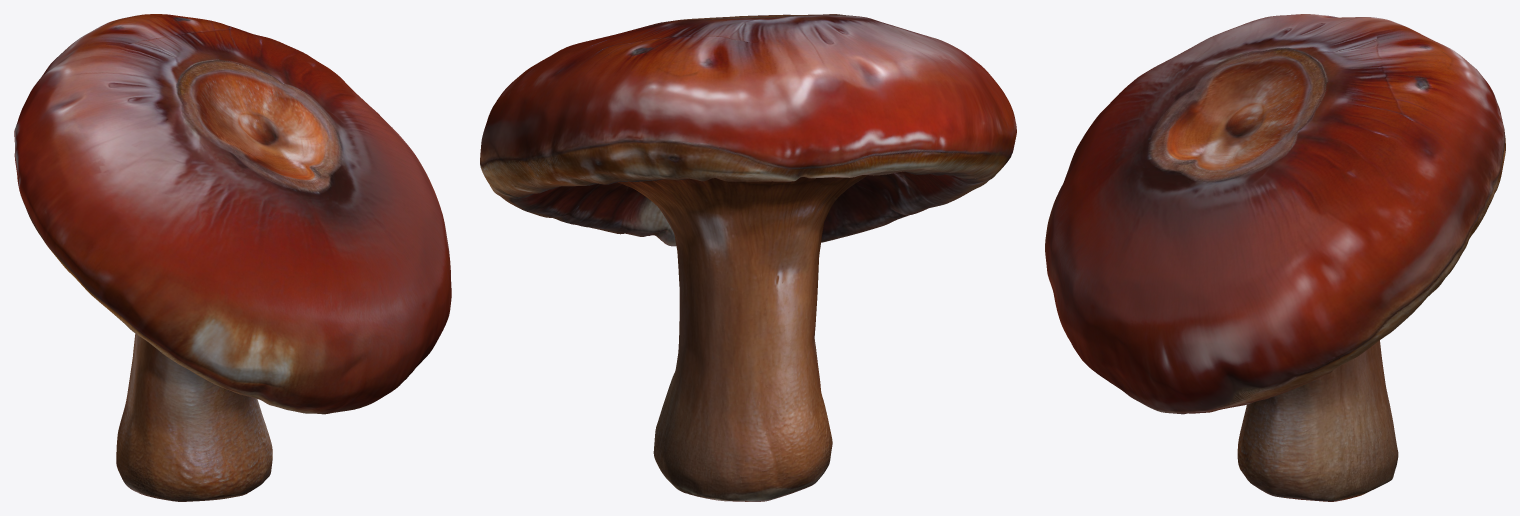
File: Reishi_GLTF.gltf
3 renders of one model, left to right at view 1: azimuth 30°, elevation 25°; view 2: azimuth 150°, elevation 25°; view 3: azimuth 270°, elevation 25°, orthographic. The views are drawn at different scales.
Visible parts, largest first — view 1: Node #0; view 2: Node #0; view 3: Node #0.
Boxes of the visible parts, x1,y1,x2,y2 form: Node #0: (14, 14, 451, 501); Node #0: (480, 14, 1016, 501); Node #0: (1045, 14, 1505, 501).
Size of the model in its own units: 2 by 1.97 by 1.96.
Materials: 1 (1 with a texture image).
